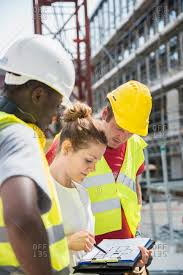helmet: (5, 31, 76, 94), (110, 84, 154, 134)
vest: (2, 112, 68, 275), (93, 142, 148, 242)
